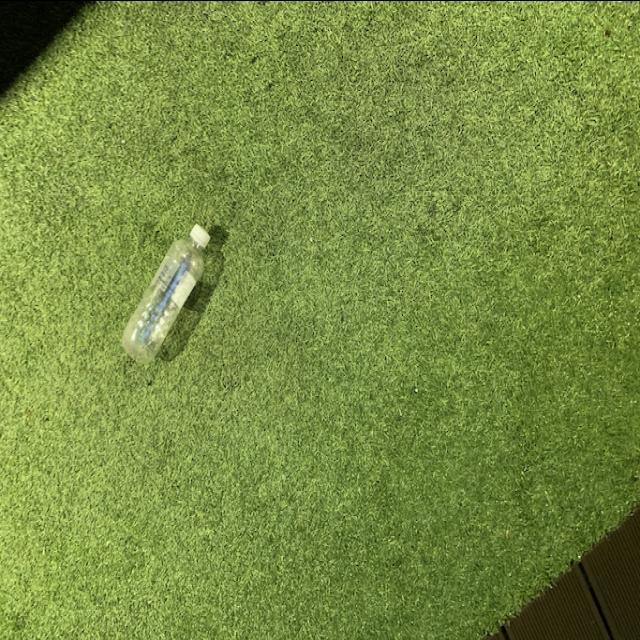PET: (121, 220, 215, 366)
